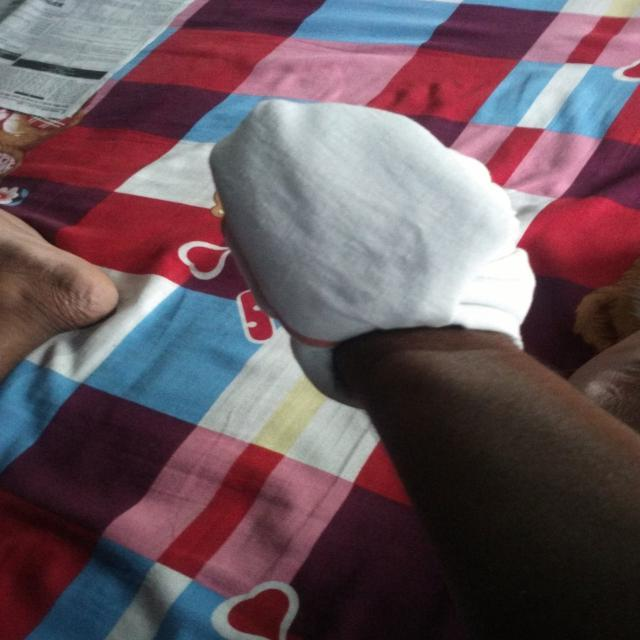gloved_hand: (202, 90, 554, 404)
